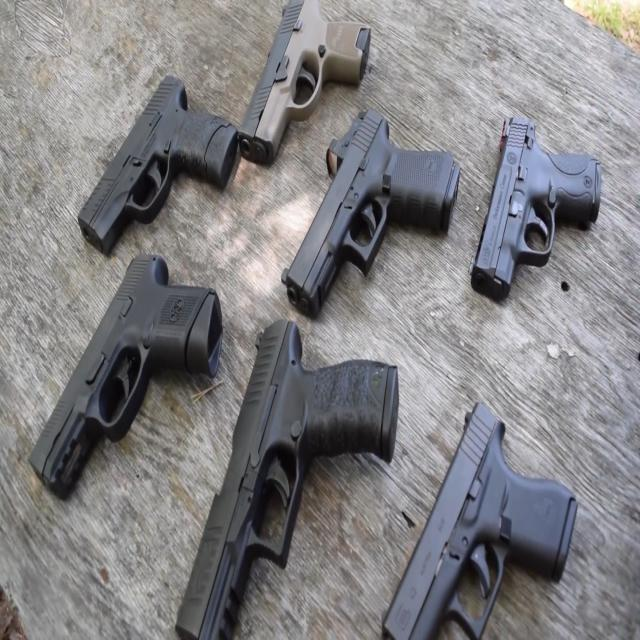handgun: (152, 335, 410, 639), (27, 218, 227, 494), (362, 425, 592, 635), (62, 67, 248, 278), (271, 105, 462, 298), (471, 112, 604, 312), (227, 0, 377, 133)
